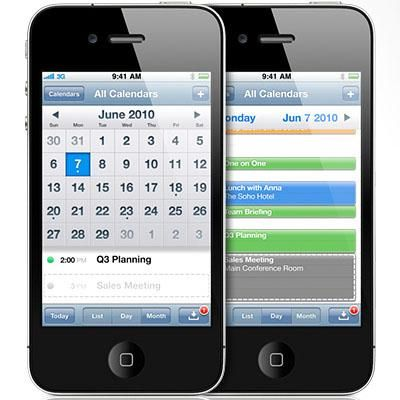mobile: (18, 1, 235, 388)
